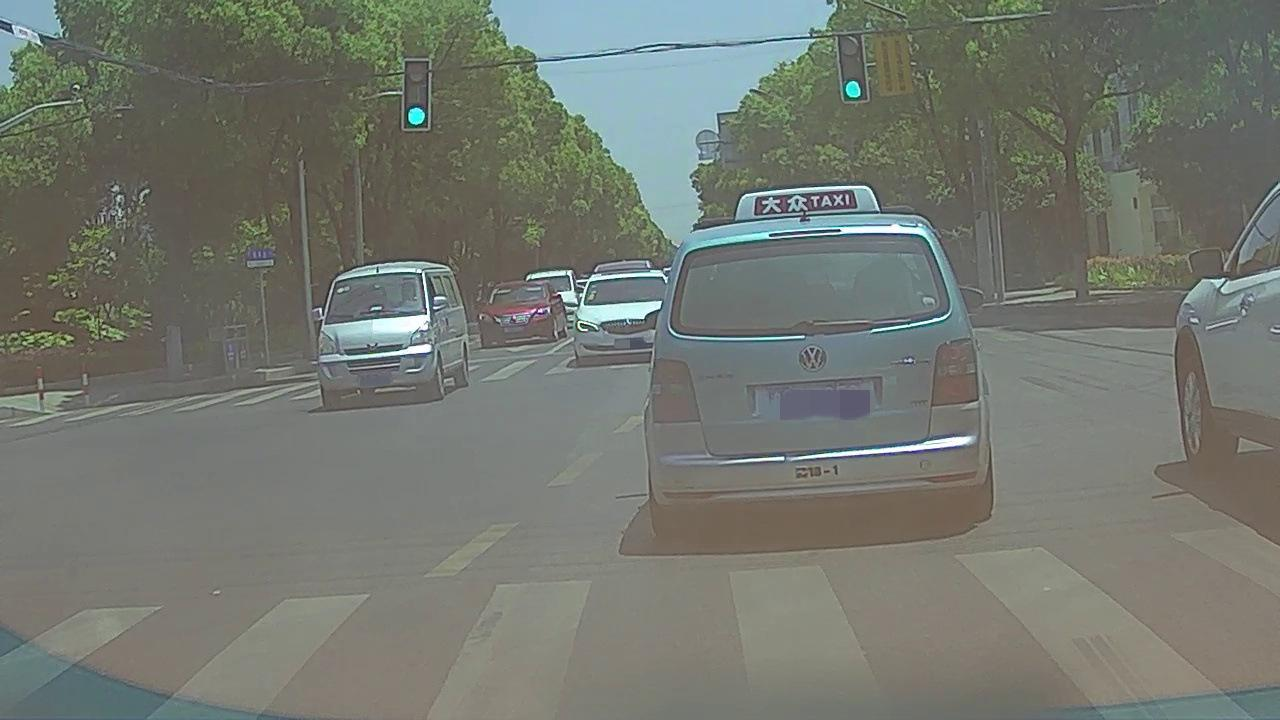traffic_light: (838, 33, 866, 105), (406, 59, 428, 128)
